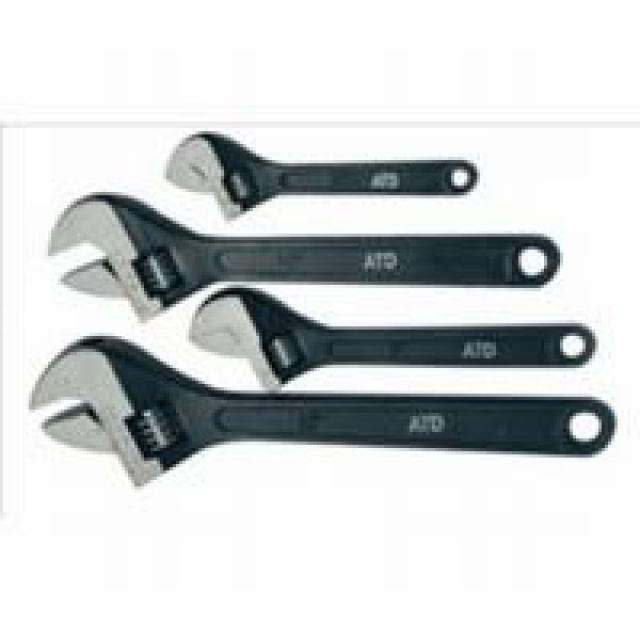wrench: (28, 338, 611, 495), (41, 189, 566, 317), (184, 286, 599, 394), (159, 120, 483, 227)
